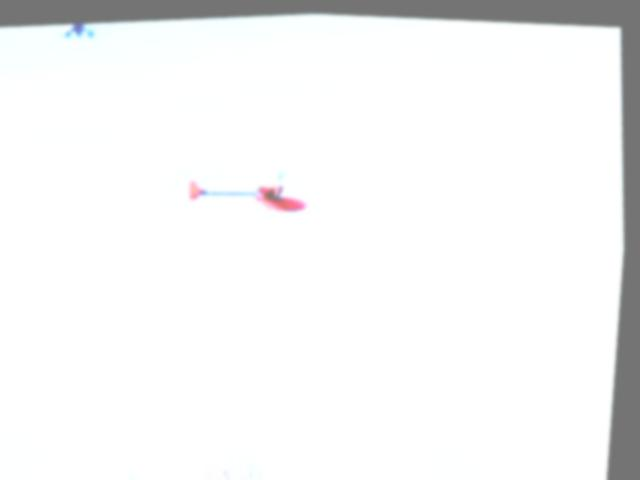uav: (177, 149, 326, 228)
